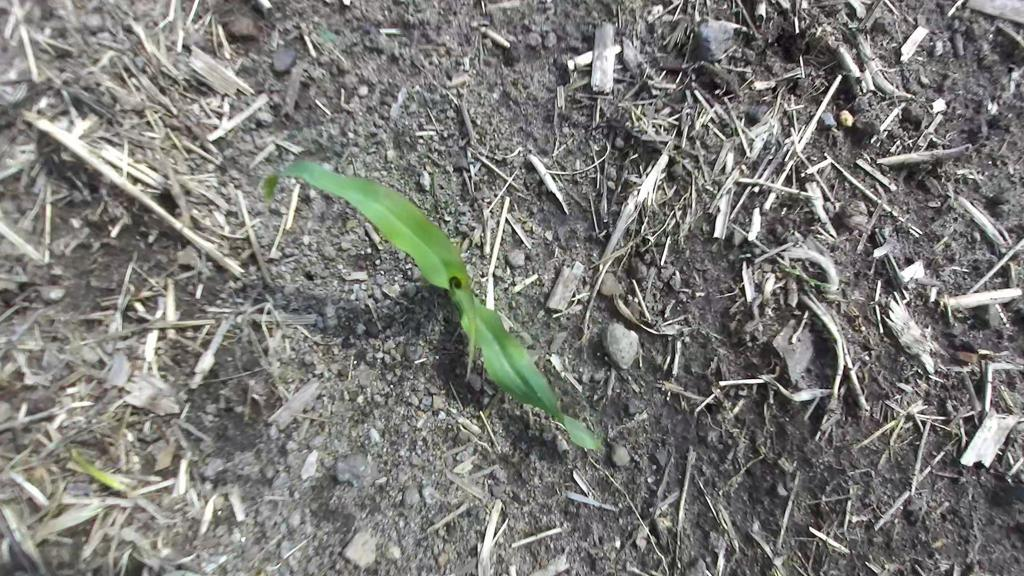BroWeed: (317, 26, 339, 44), (379, 282, 402, 298), (471, 222, 483, 248), (343, 217, 360, 233), (459, 236, 472, 254), (690, 72, 698, 90)
Maize: (248, 118, 647, 479)
NarWeed: (64, 445, 127, 496)
